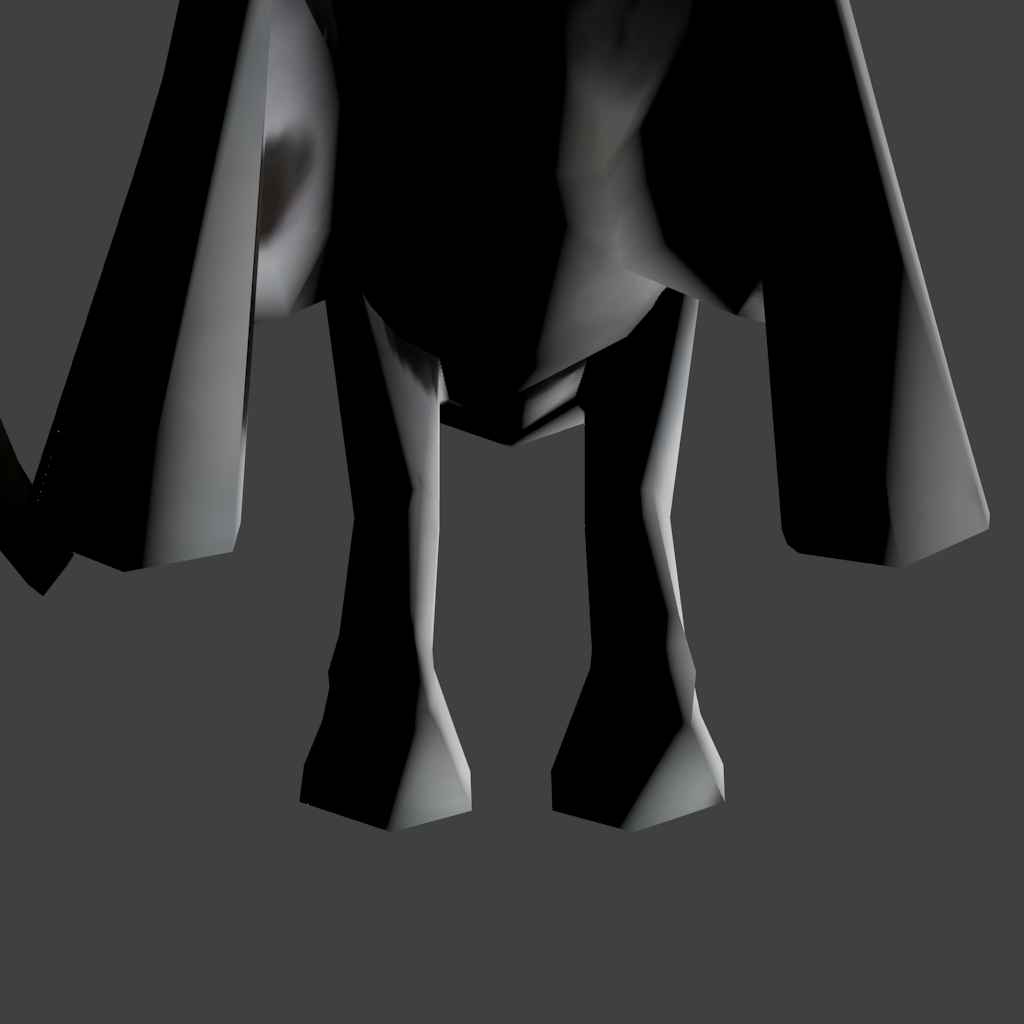Cat: (0, 0, 990, 832)
